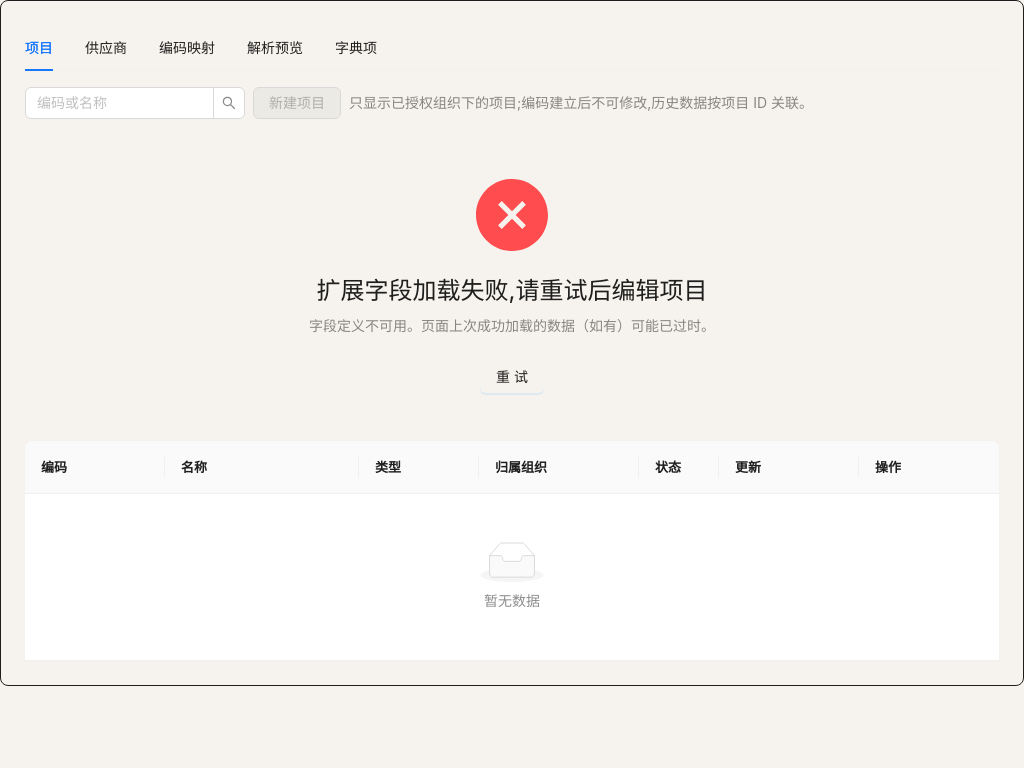
Test: 主数据扩展字段 AC-F07/F23 › 字段定义失败可重试,成功后才允许新建 projects
Expected: the text "扩展字段加载失败,请重试后编辑项目" is shown, top-left (316, 276), bottom-right (707, 305)
Expected: the button "新建项目" is disabled, top-left (253, 87), bottom-right (341, 119)
Click the button "重 试" at (512, 377), box top-left (480, 361), bottom-right (544, 393)
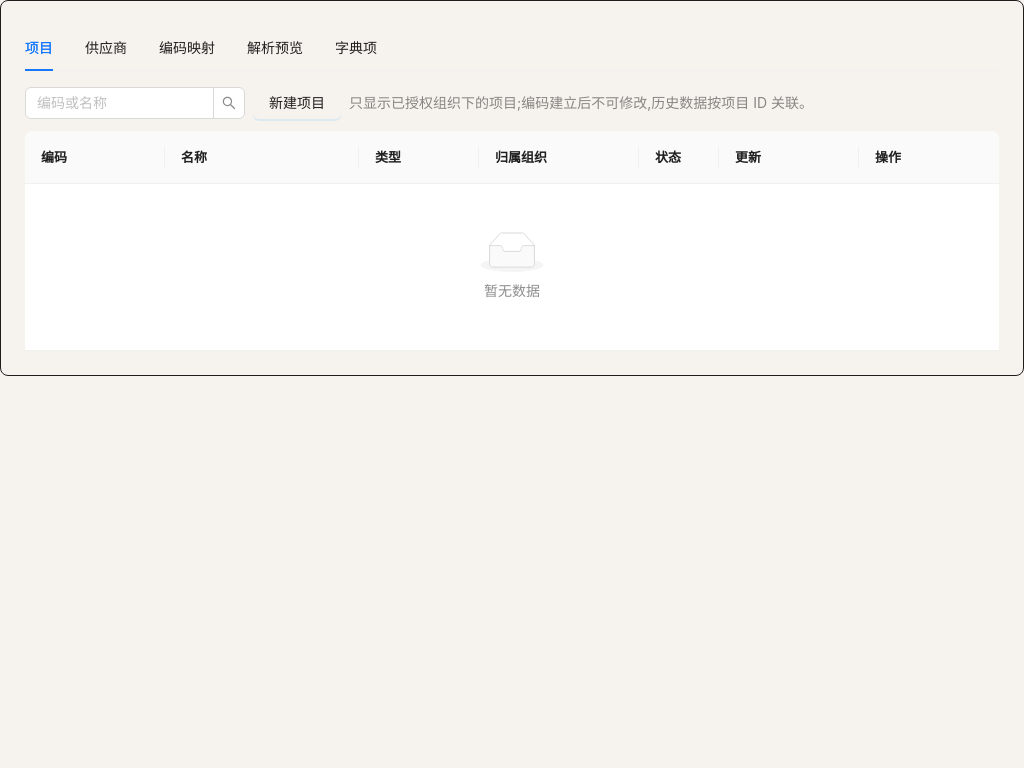
Expected: the button "新建项目" is enabled, top-left (253, 87), bottom-right (341, 119)
